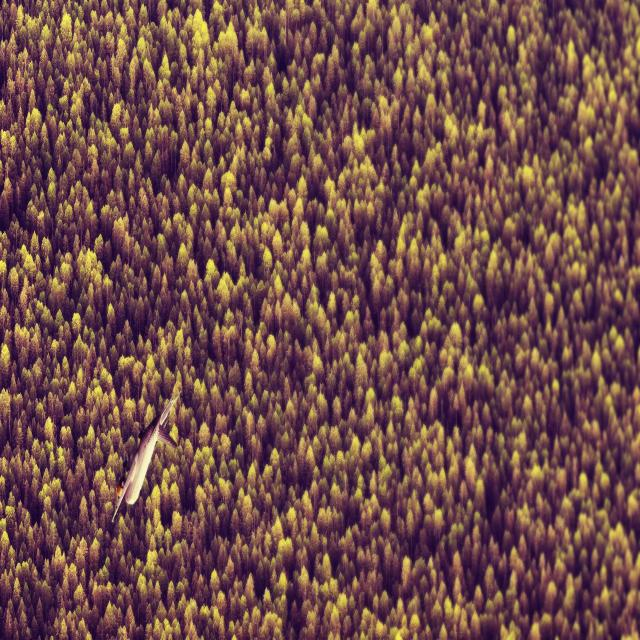airplane: (111, 396, 178, 523)
